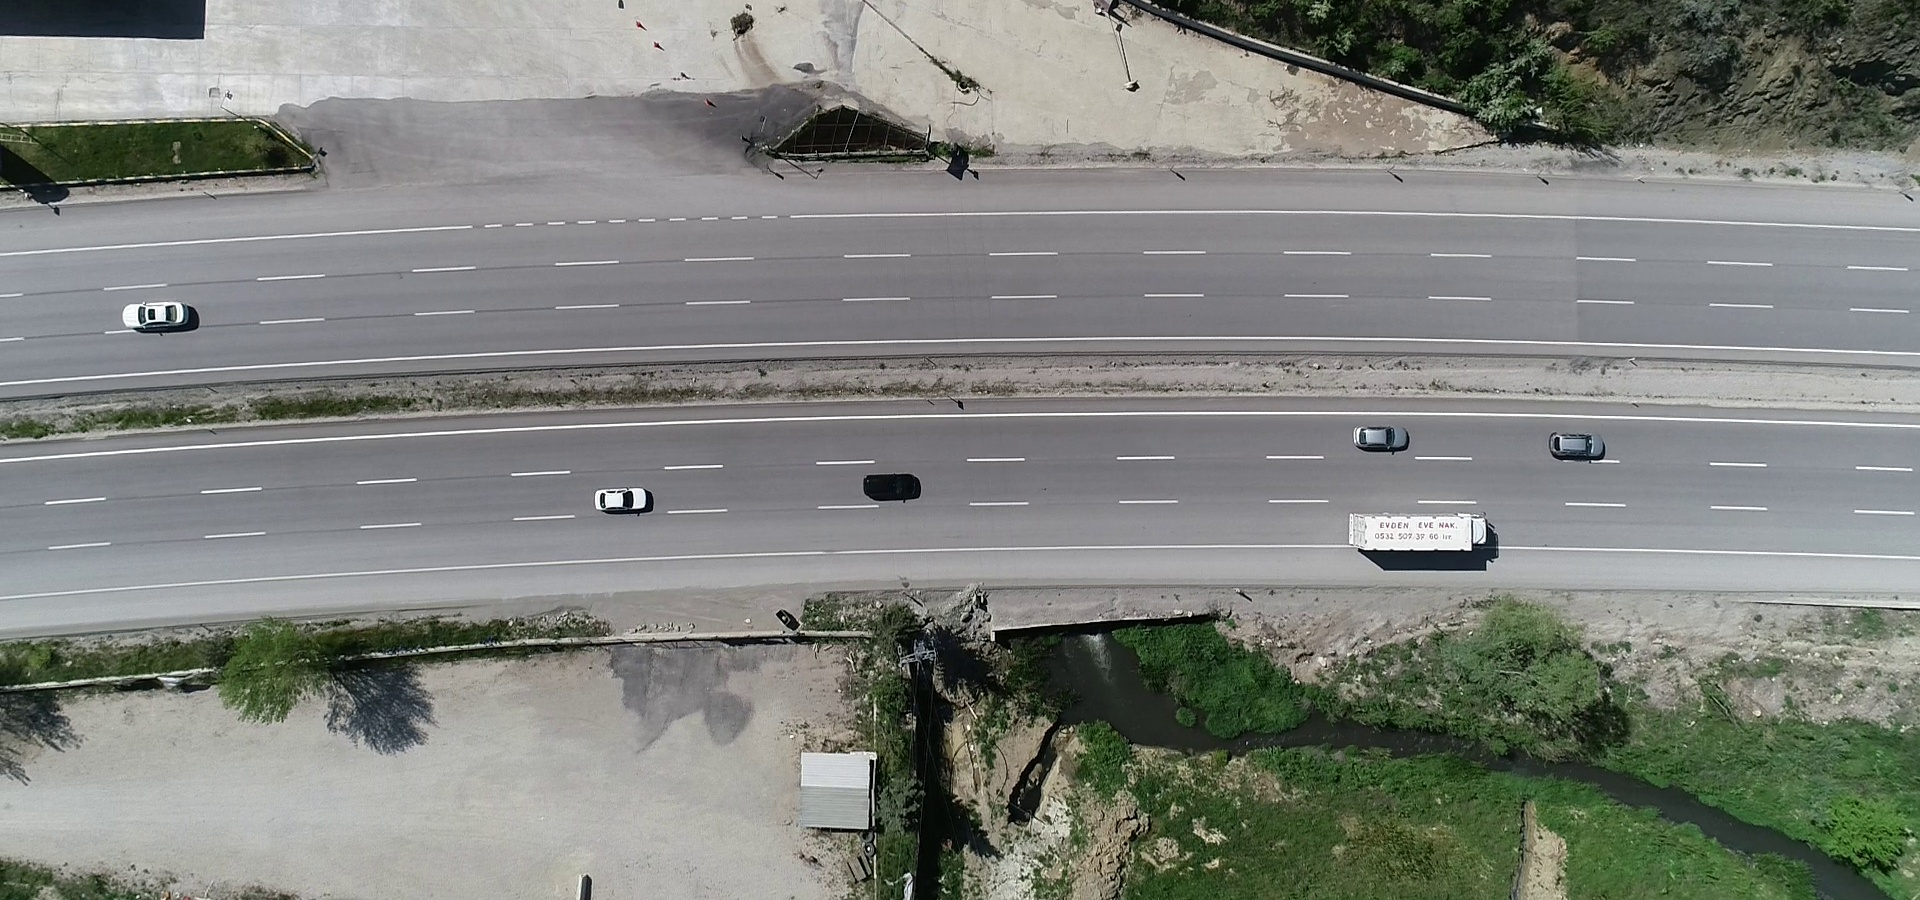arac: (1344, 508, 1500, 558), (111, 294, 204, 331), (589, 476, 658, 513), (858, 469, 924, 503), (1544, 431, 1619, 460), (1351, 424, 1416, 454)
